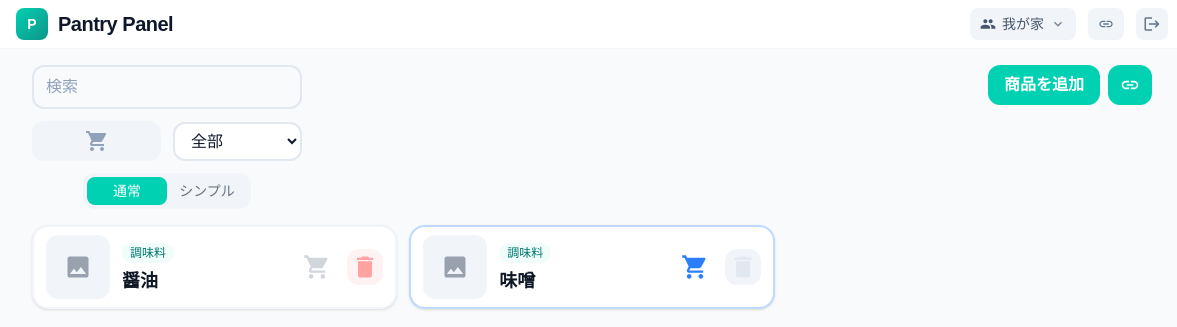
StockItemsClient › 「買いたいものだけ」ON で wantToBuy=false が消える
Check: the heading "醤油" is shown, box [122,270,158,290]
Check: the heading "味噌" is shown, box [499,270,535,290]
Click the button named "買いたいものだけ" at point(96, 141), box [32,121,161,161]
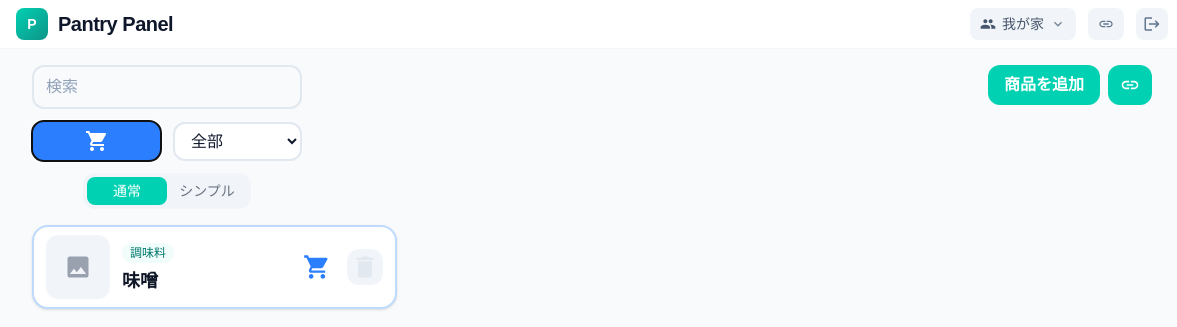
Check: the heading "味噌" is shown, box [122,270,158,290]
Check: the button "醤油" is gone
